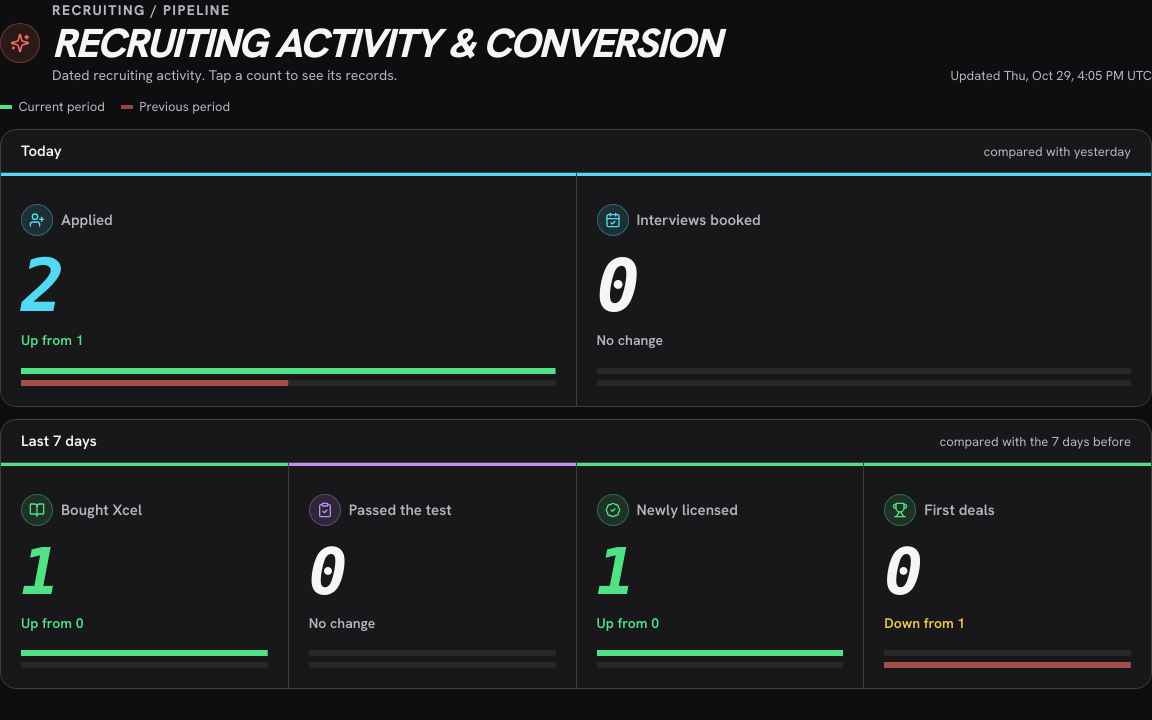
Scenario: HomeConversions › a tile opens exactly the people it counts, then the comparison's people
This screenshot has width=1152, height=720.
Click the button "Applied 2 Up from 1". click: (37, 220)
box: x1=1 y1=173 x2=576 y2=406
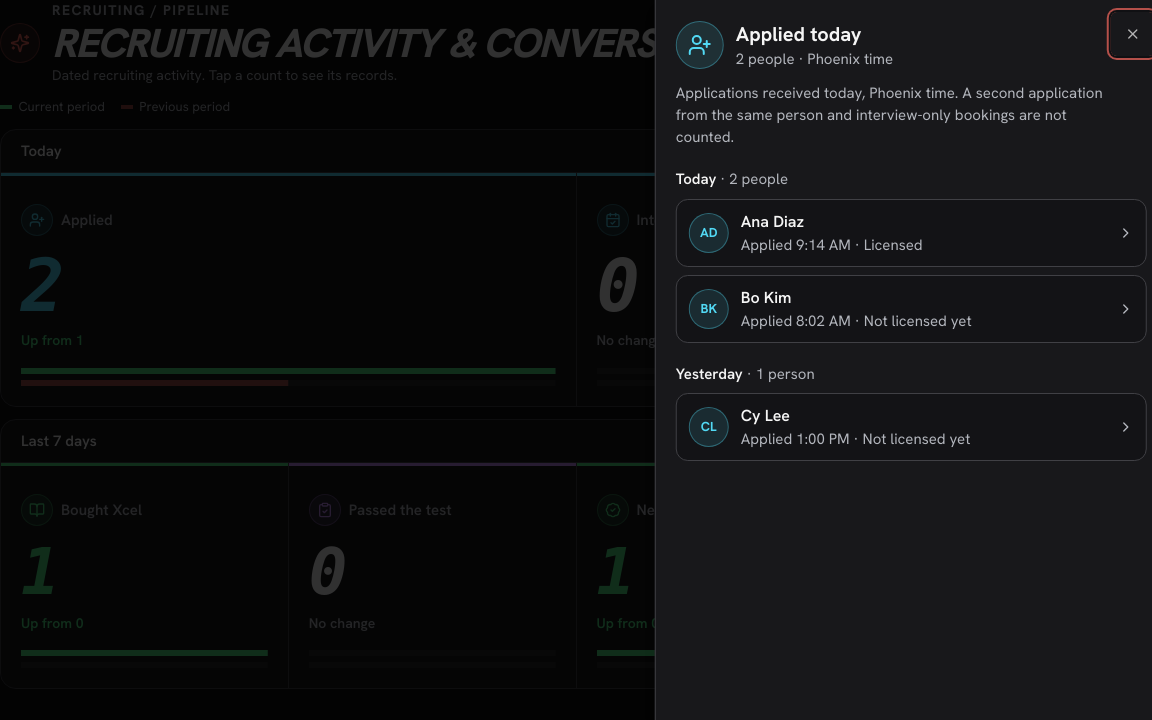
Expected: the heading "Applied today" is shown, x1=724 y1=21 x2=850 y2=47
Expected: the text "Applied 9:14 AM · Licensed" is shown, x1=729 y1=234 x2=911 y2=254
Expected: the text "Cy Lee" is shown, x1=729 y1=405 x2=778 y2=426
